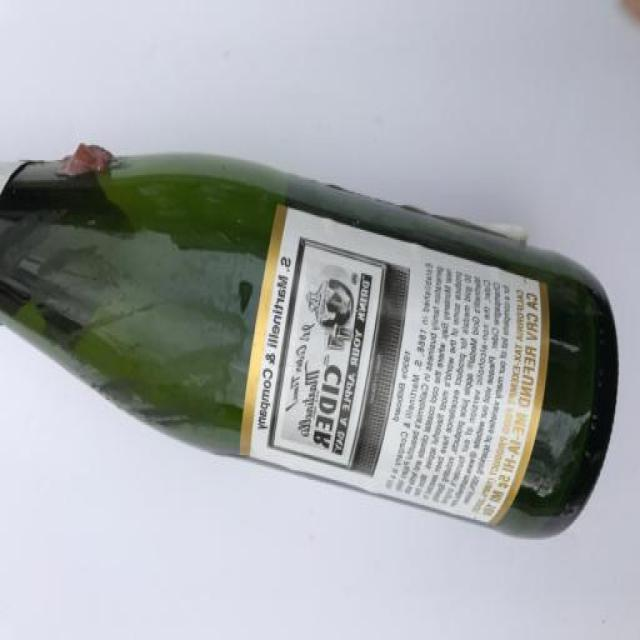glass: (0, 142, 619, 538)
